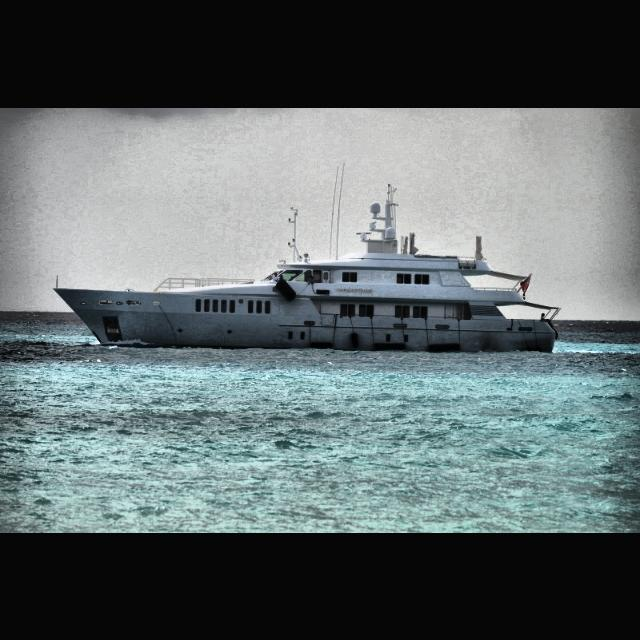yacht: (52, 200, 560, 354)
